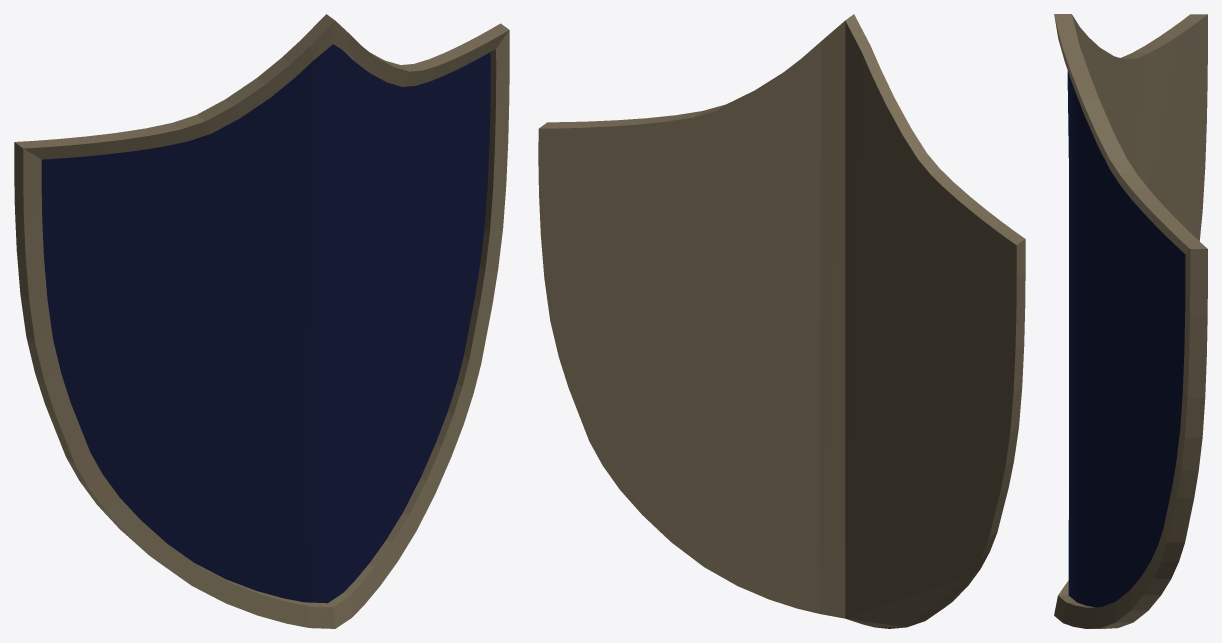
Rendered from shield.fbx.
The picture shows the model from 3 angles, left to right: view 1: azimuth 30°, elevation 25°; view 2: azimuth 150°, elevation 25°; view 3: azimuth 270°, elevation 25°; orthographic projection.
Parts seen in each view (by area): view 1: Shield_01; view 2: Shield_01; view 3: Shield_01.
Boxes of the visible parts, box(x1,y1,x2,y2) form: Shield_01: box(14, 14, 509, 628); Shield_01: box(538, 14, 1025, 628); Shield_01: box(1054, 14, 1207, 628).
Bounding box in the file's own units: 225 × 269 × 62.3.
